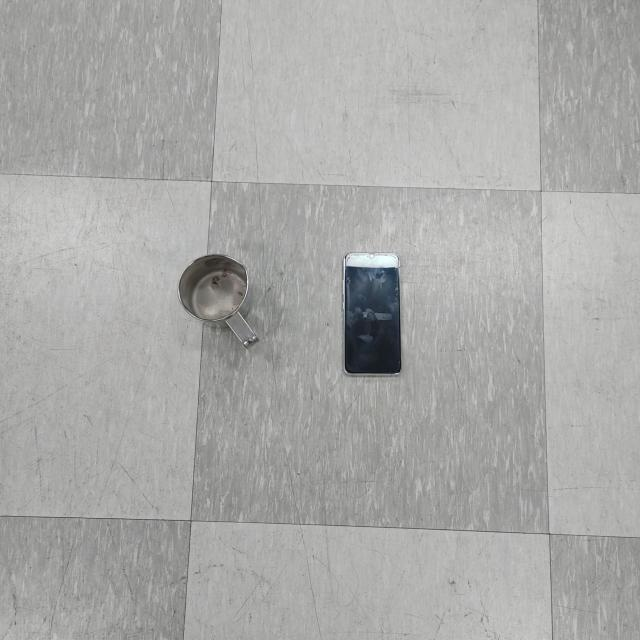cup: (178, 250, 260, 356)
phone: (341, 251, 402, 377)
